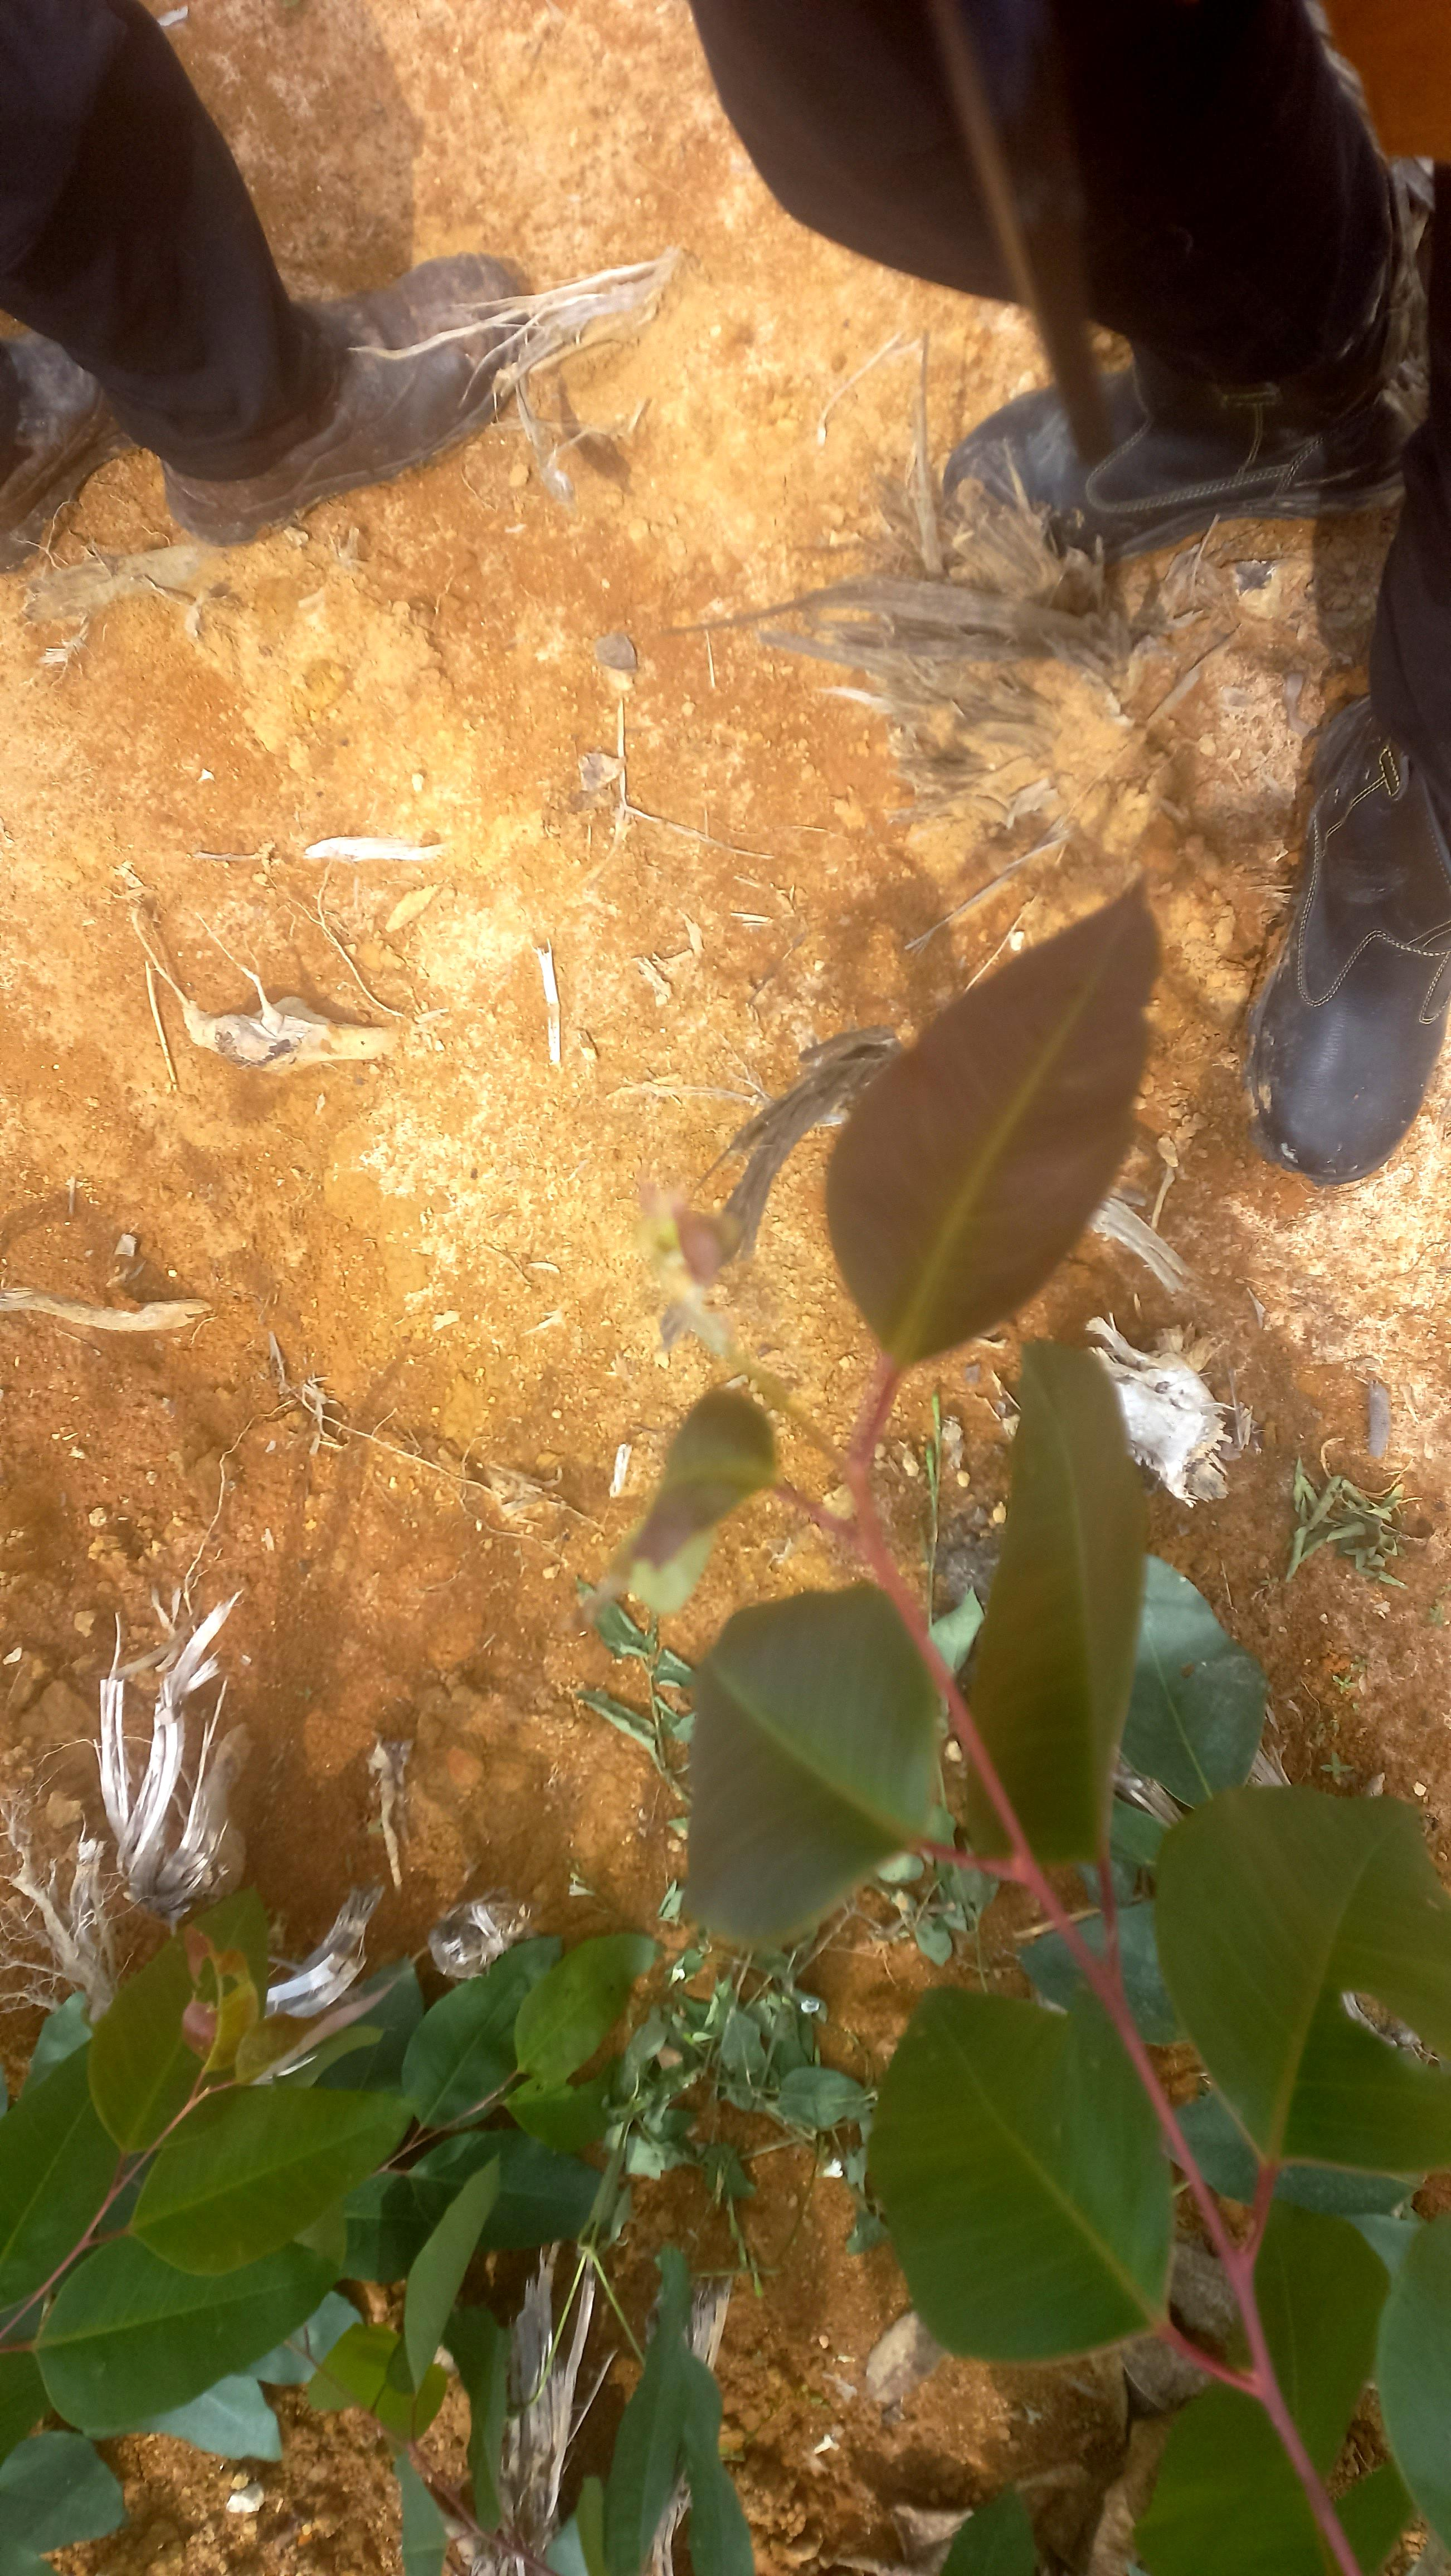Leaf Roller - Leaf: (619, 1385, 784, 1598), (621, 1173, 756, 1345), (180, 1927, 255, 2074)
